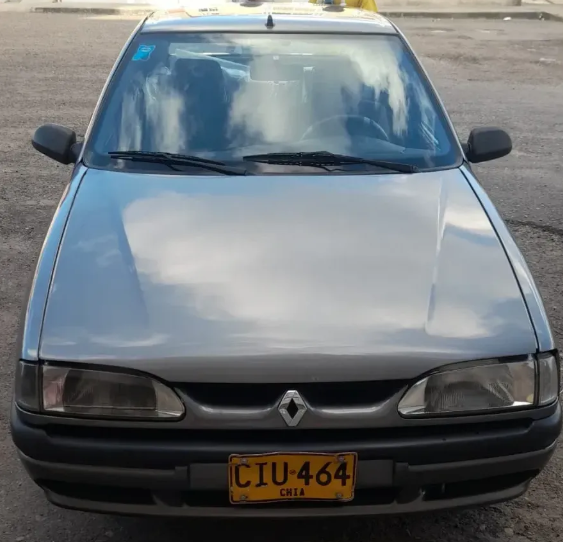placa: (229, 454, 359, 504)
